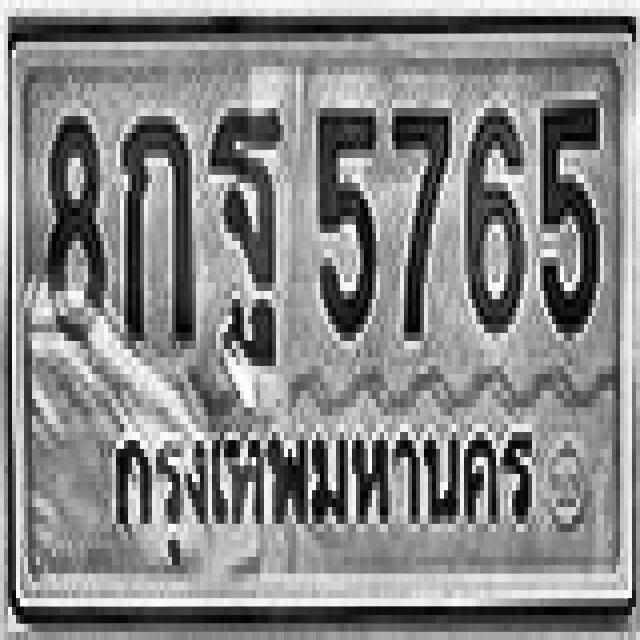license-plate: (14, 44, 630, 612)
